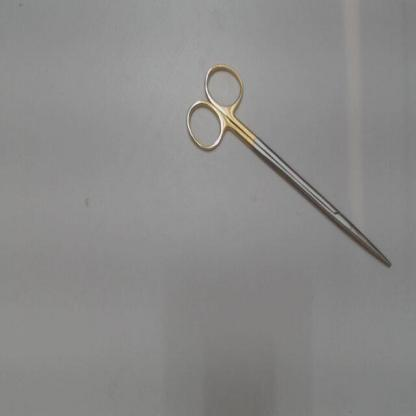7 Metzenbaum Scissors: (183, 56, 396, 274)
